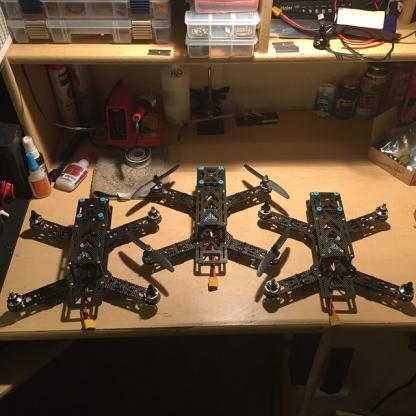drone: (127, 161, 294, 276), (257, 196, 416, 313), (7, 200, 166, 317)
